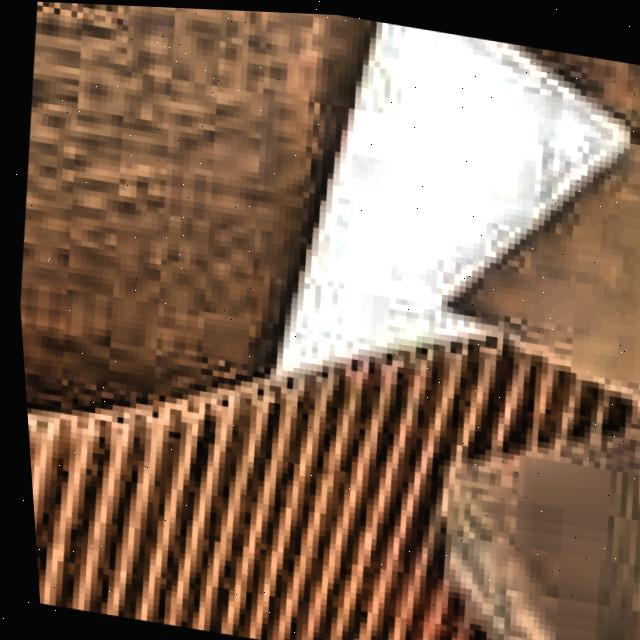paper: (0, 0, 455, 640), (430, 39, 640, 407), (436, 432, 640, 640)
